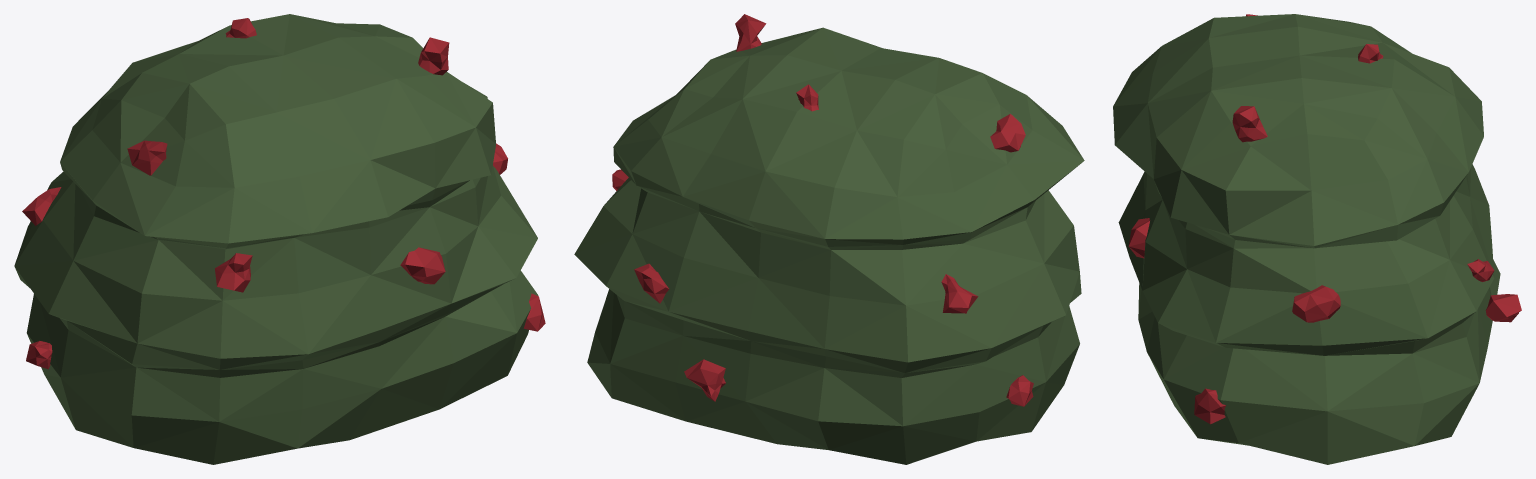
Rendered from crop_strawberry.s4.glb.
3 renders of one model, left to right at view 1: azimuth 30°, elevation 25°; view 2: azimuth 150°, elevation 25°; view 3: azimuth 270°, elevation 25°, orthographic. The views are drawn at different scales.
Size of the model in its own units: 1 by 0.7423 by 0.81.
